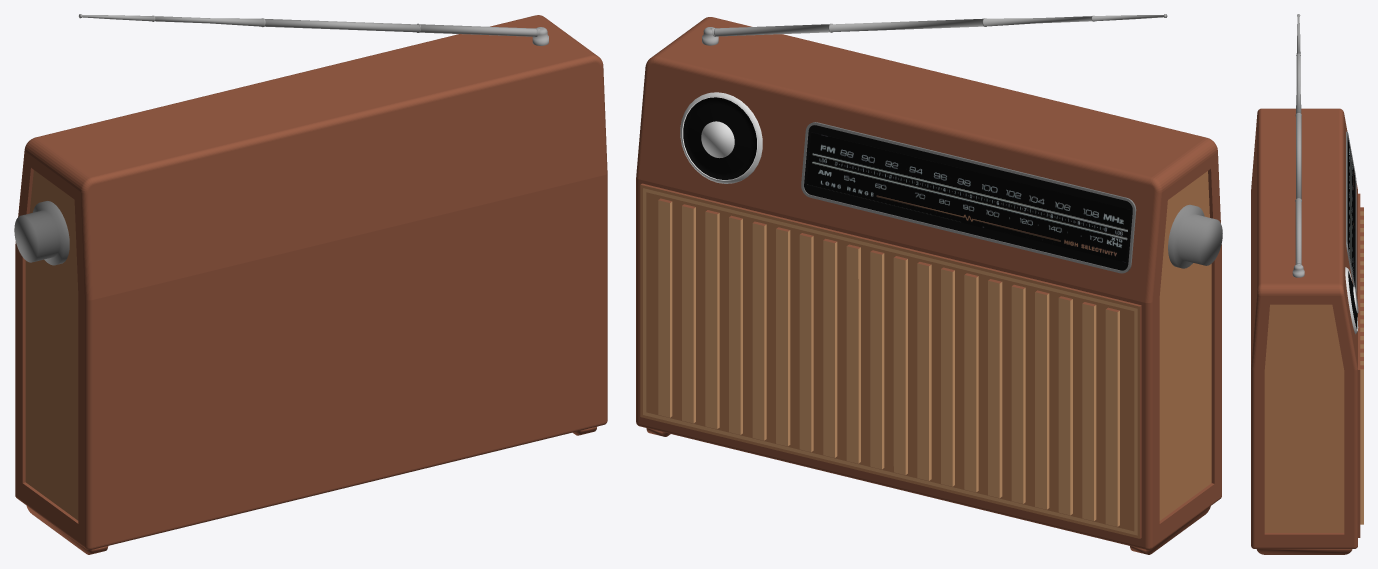
The model's file is vintage_radio.glb.
3 renders of one model, left to right at view 1: azimuth 30°, elevation 25°; view 2: azimuth 150°, elevation 25°; view 3: azimuth 270°, elevation 25°, orthographic. The views are drawn at different scales.
Parts seen in each view (by area): view 1: Cube_2; view 2: Cube_2; view 3: Cube_2.
Part boxes in pixels (bbox=[...]): Cube_2: bbox=[14, 14, 607, 554]; Cube_2: bbox=[636, 14, 1222, 554]; Cube_2: bbox=[1251, 14, 1363, 554].
Bounding box in the file's own units: 10.34 × 9.39 × 2.59.
Materials: 8 (1 with a texture image).
